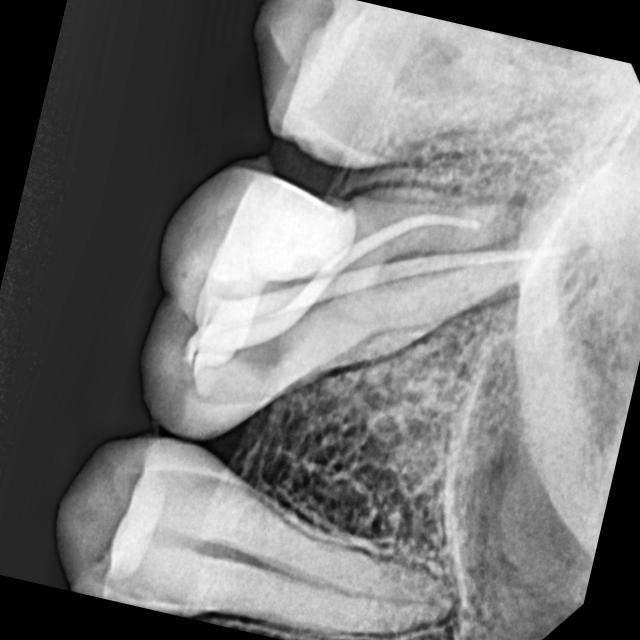RCT: (175, 130, 560, 463)
